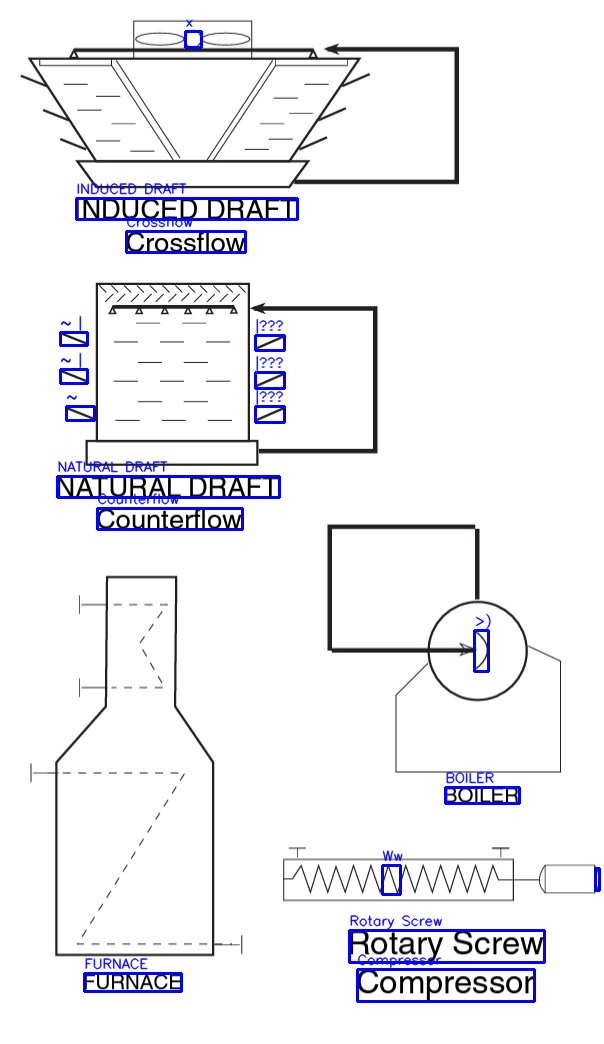Caldeira: (319, 518, 580, 788)
Compressor: (276, 841, 604, 908)
Forno: (22, 569, 250, 990)
Outro: (13, 12, 465, 193), (47, 273, 388, 471)
